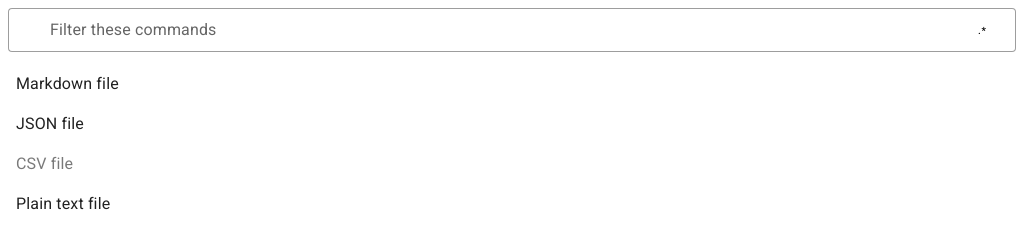
Test case: the filter › narrows the list to rows whose label matches, case-insensitively
This screenshot has width=1024, height=227.
Step 1. Type "json" into the search field labelled "Filter these commands" → [480, 28], box 44,8 -> 916,48
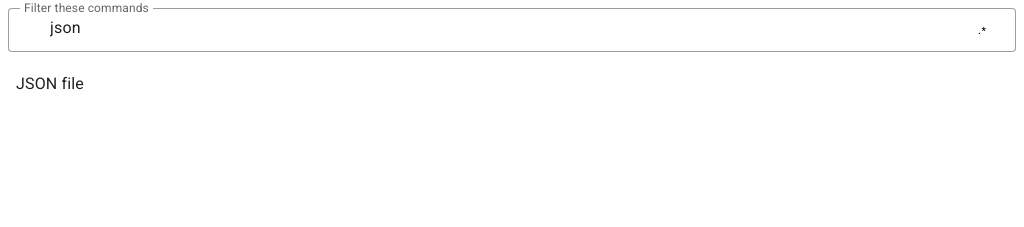
Expected: the text "JSON file" is shown, 16,74 -> 84,93
Result: the text "Markdown file" is gone
Result: the text "Plain text file" is gone
